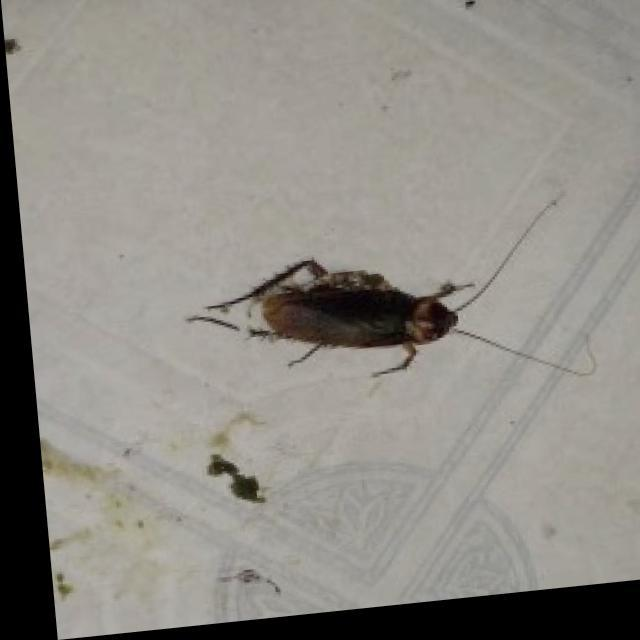cockroach: (175, 237, 541, 396)
